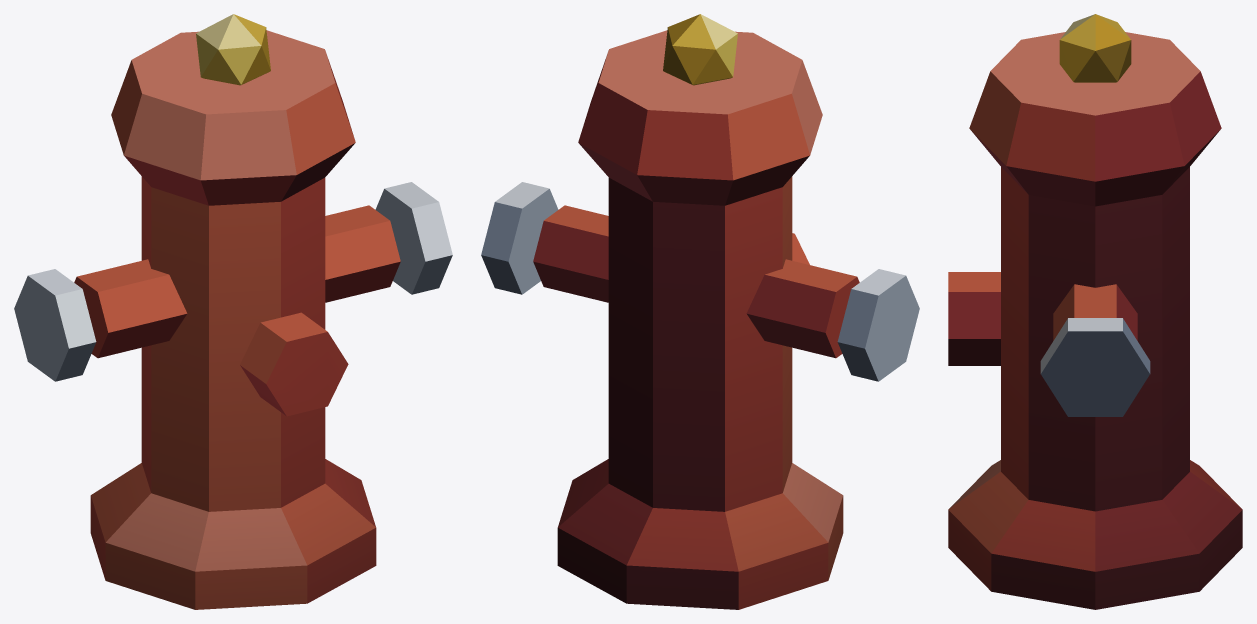
The model's file is fire_hydrant.glb.
3 views of the same model, side by side, from view 1: azimuth 30°, elevation 25°; view 2: azimuth 150°, elevation 25°; view 3: azimuth 270°, elevation 25° (orthographic).
Visible parts, largest first — view 1: fire_hydrant; view 2: fire_hydrant; view 3: fire_hydrant.
Boxes of the visible parts, <box> form: fire_hydrant: <box>14,14,452,609</box>; fire_hydrant: <box>481,14,919,609</box>; fire_hydrant: <box>948,14,1242,609</box>.
Size of the model in its own units: 0.42 by 0.56 by 0.28.
